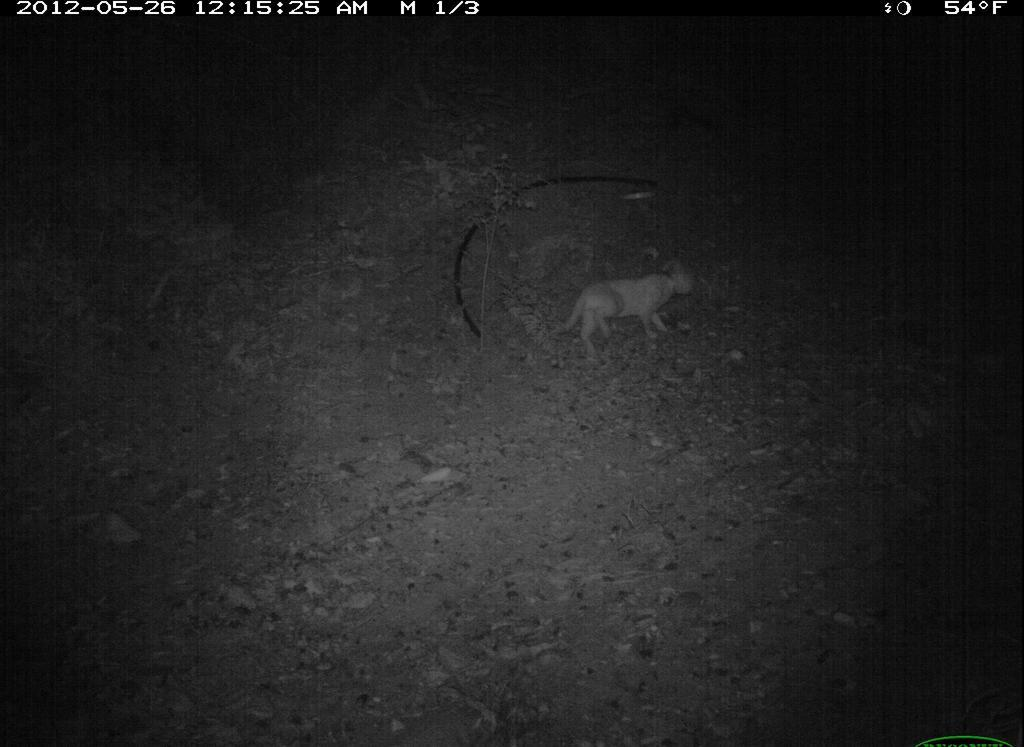cat: (550, 259, 710, 361)
